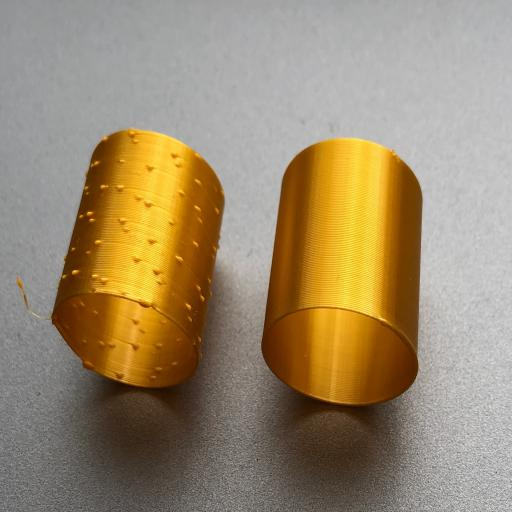blobs: (145, 223, 220, 317), (77, 318, 175, 374), (57, 216, 120, 293), (100, 147, 179, 188)
